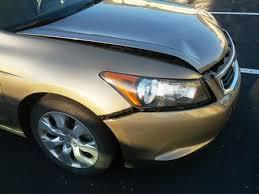bonnet-dent: (104, 10, 224, 62)
front-bumper-dent: (188, 84, 240, 149)
